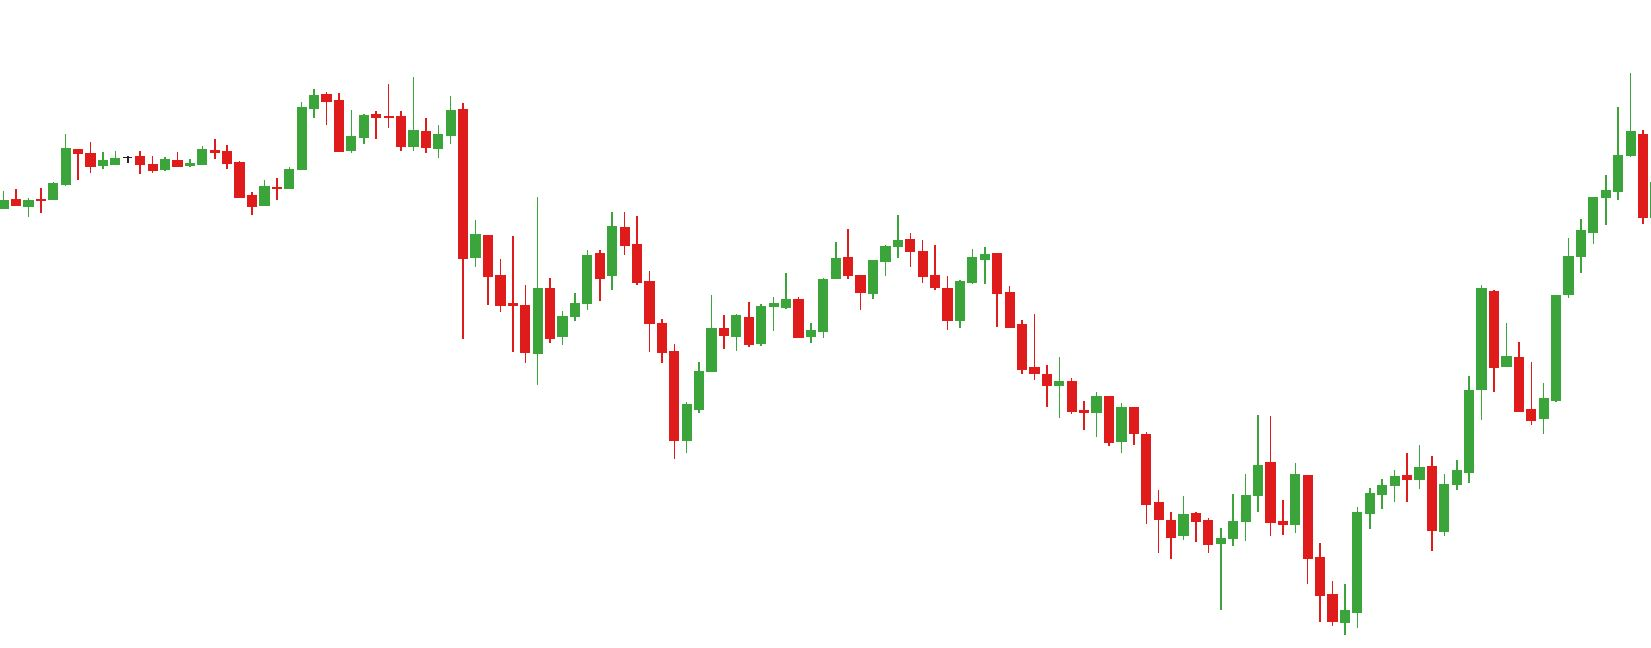buy: (529, 270, 707, 464), (1214, 503, 1350, 642)
sell: (841, 214, 903, 283)
